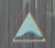Speed Breaker ahead: (5, 5, 48, 47)
